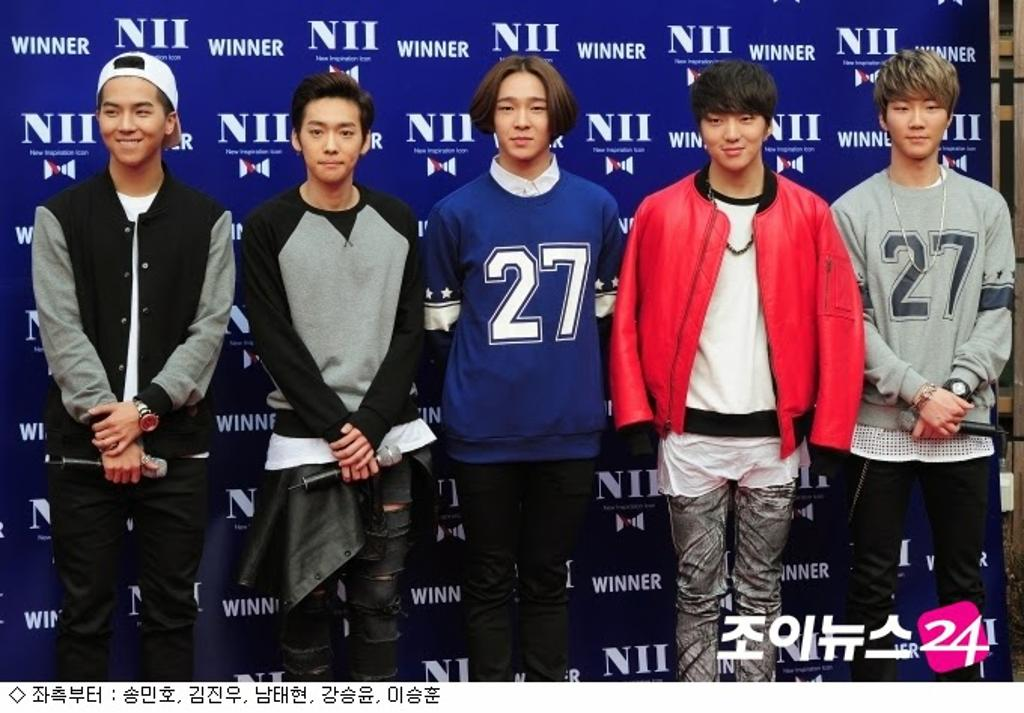face: (96, 76, 166, 162), (494, 72, 556, 162), (298, 96, 360, 182), (886, 74, 946, 156), (700, 92, 764, 168)
